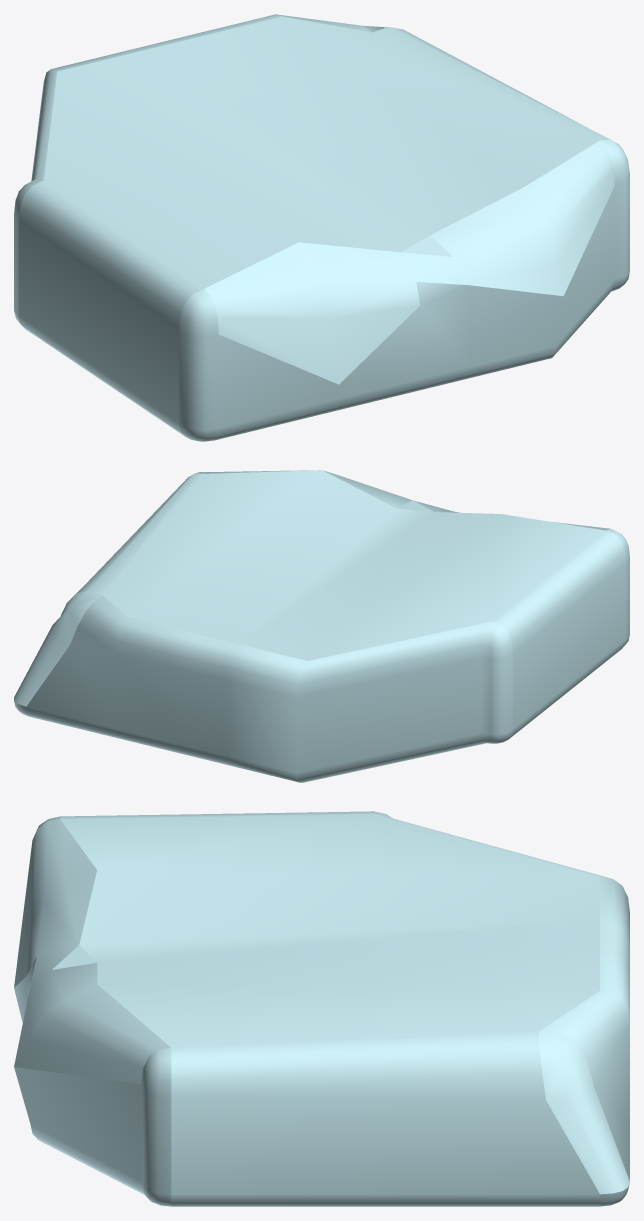
File: Box_Floor_08.fbx
3 renders of one model, top to bottom at view 1: azimuth 30°, elevation 25°; view 2: azimuth 150°, elevation 25°; view 3: azimuth 270°, elevation 25°, orthographic. The views are drawn at different scales.
Parts seen in each view (by area): view 1: Box_Floor_08; view 2: Box_Floor_08; view 3: Box_Floor_08.
Part boxes in pixels (x1,y1,x2,y2): Box_Floor_08: (14,14,629,441); Box_Floor_08: (14,470,629,782); Box_Floor_08: (14,811,629,1206).
Size of the model in its own units: 20.39 by 5.93 by 20.55.
